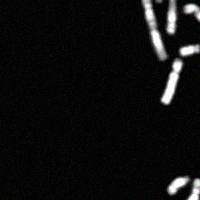chromosome: (142, 0, 167, 61), (160, 57, 183, 104), (166, 0, 181, 33), (178, 178, 200, 200), (168, 175, 190, 194), (185, 3, 200, 26), (180, 44, 200, 55), (155, 0, 168, 2)
